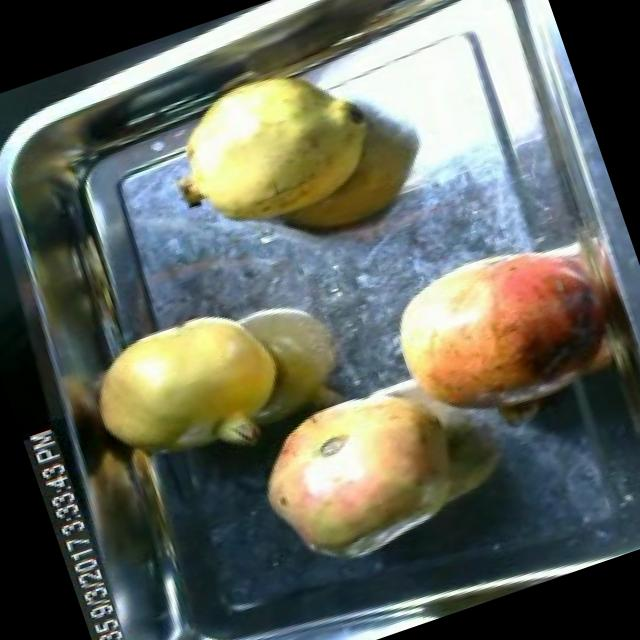fruit: (359, 209, 640, 457), (229, 350, 500, 596), (146, 36, 400, 254), (71, 285, 308, 487)
